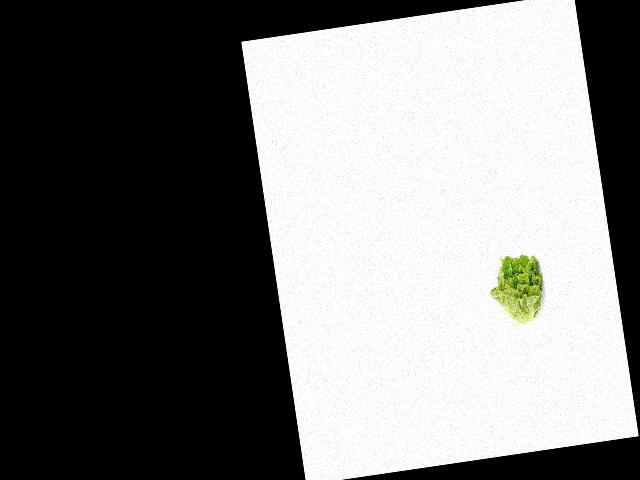lettuce: (486, 251, 552, 327)
